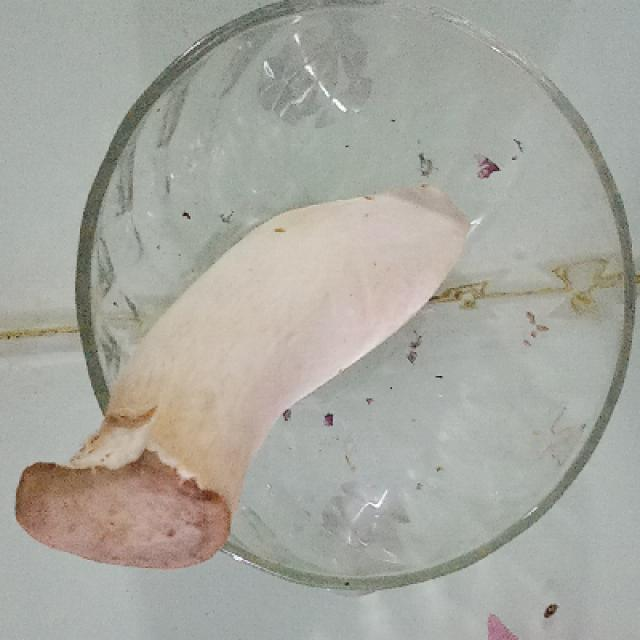Pleurotus eryngii: (17, 191, 477, 567)
